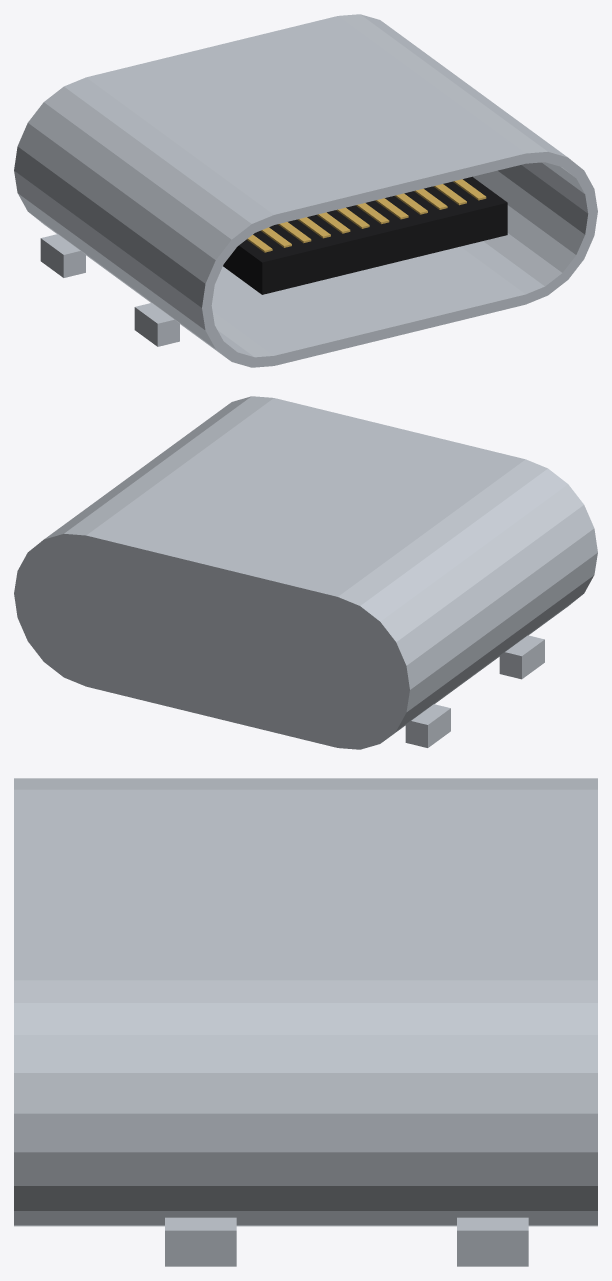
File: pcb-package-kit.glb
3 renders of one model, top to bottom at view 1: azimuth 30°, elevation 25°; view 2: azimuth 150°, elevation 25°; view 3: azimuth 270°, elevation 25°, orthographic. The views are drawn at different scales.
Visible parts, largest first — view 1: usbc_shield, usbc_tongue, usbc_contact, usbc_shield_leg; view 2: usbc_shield, usbc_shield_leg; view 3: usbc_shield, usbc_shield_leg.
Part boxes in pixels (x1,y1,x2,y2): usbc_shield: (14,14,597,367); usbc_tongue: (223,176,507,294); usbc_contact: (247,179,486,252); usbc_shield_leg: (40,234,179,346); usbc_shield: (14,396,597,749); usbc_shield_leg: (405,635,544,747); usbc_shield: (14,778,597,1226); usbc_shield_leg: (165,1217,528,1266).
Size of the model in its own units: 8.94 by 3.26 by 7.35.
